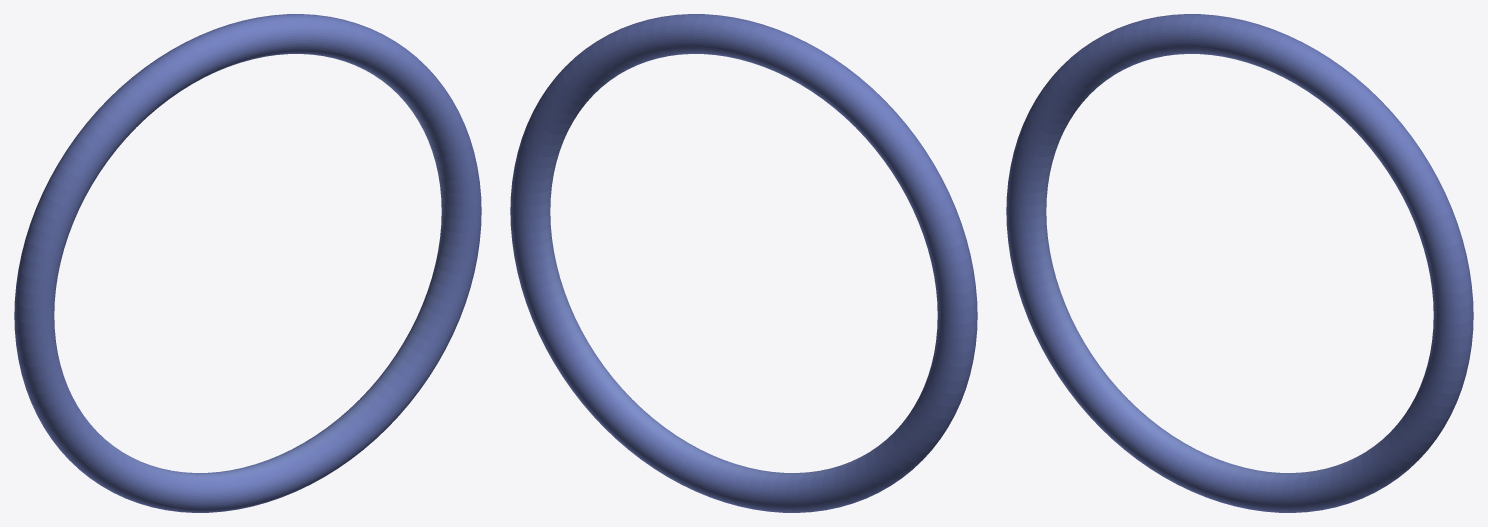
3 renders of one model, left to right at view 1: azimuth 30°, elevation 25°; view 2: azimuth 150°, elevation 25°; view 3: azimuth 330°, elevation 25°, orthographic.
Visible parts, largest first — view 1: world; view 2: world; view 3: world.
Part boxes in pixels (left/top/right/bottom): world: left=14, top=14, right=481, bottom=512; world: left=510, top=14, right=977, bottom=512; world: left=1006, top=14, right=1473, bottom=512.
Bounding box in the file's own units: 26.67 × 26.67 × 2.
